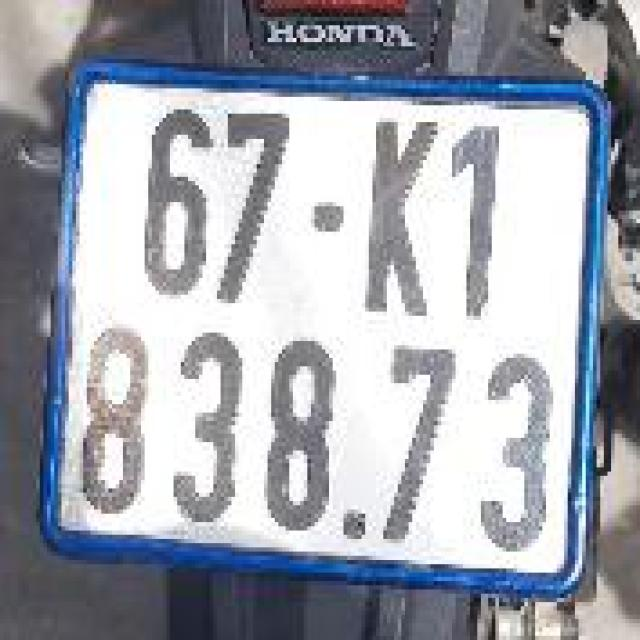1: (447, 116, 515, 318)
3: (474, 343, 557, 558), (175, 326, 244, 524)
6: (130, 99, 217, 297)
7: (212, 101, 294, 307), (380, 337, 456, 547)
8: (72, 316, 163, 522), (264, 335, 336, 537)
K: (354, 101, 438, 324)
